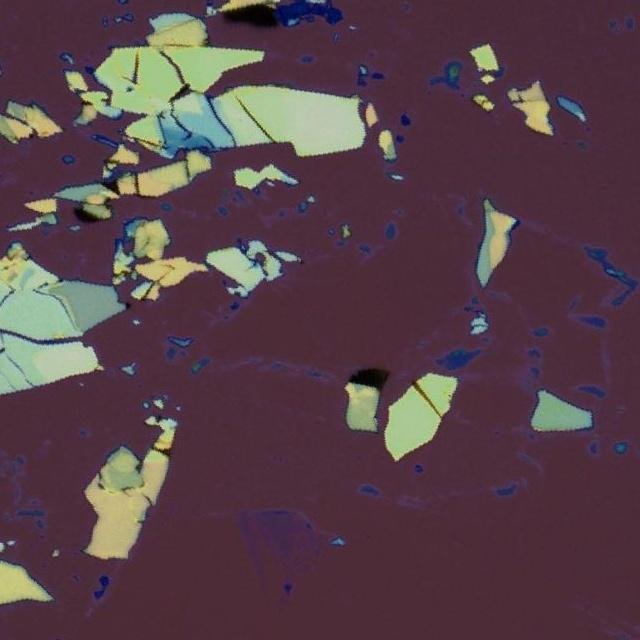monolayer-eWW4: (236, 508, 314, 584)
